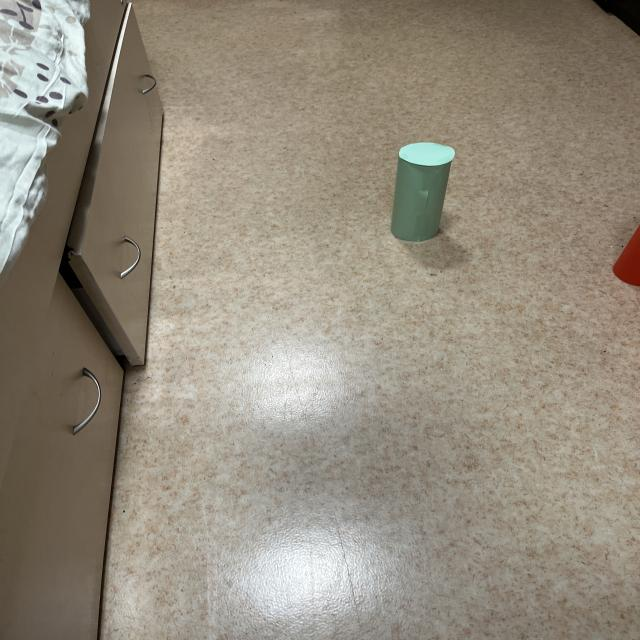meta: (391, 143, 454, 241)
